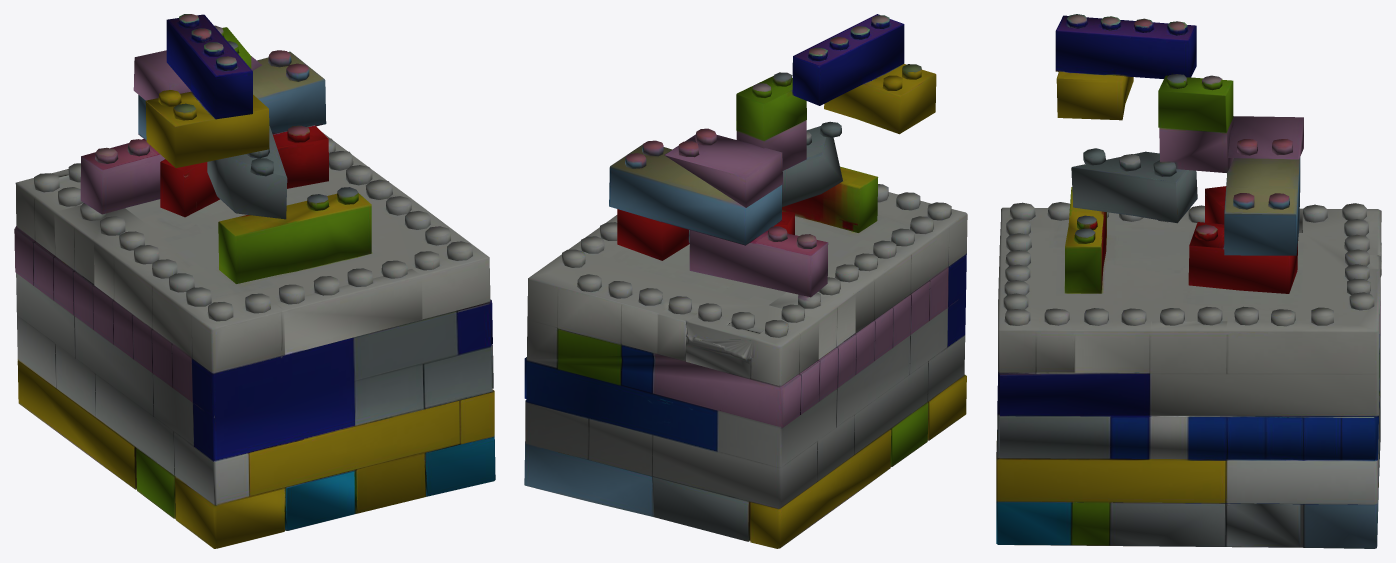
Rendered from object_40_asset_2bb3c13c.glb.
The picture shows the model from 3 angles, left to right: view 1: azimuth 30°, elevation 25°; view 2: azimuth 150°, elevation 25°; view 3: azimuth 270°, elevation 25°; orthographic projection. The views are drawn at different scales.
Parts seen in each view (by area): view 1: tripo_node_f3fd4cdd-843f-4fcf-b424-6a630ef29409; view 2: tripo_node_f3fd4cdd-843f-4fcf-b424-6a630ef29409; view 3: tripo_node_f3fd4cdd-843f-4fcf-b424-6a630ef29409.
Part boxes in pixels (x1,y1,x2,y2): tripo_node_f3fd4cdd-843f-4fcf-b424-6a630ef29409: (14,14,495,548); tripo_node_f3fd4cdd-843f-4fcf-b424-6a630ef29409: (524,14,967,548); tripo_node_f3fd4cdd-843f-4fcf-b424-6a630ef29409: (996,14,1381,548).
Size of the model in its own units: 0.6699 by 0.998 by 0.8223.
Materials: 1 (1 with a texture image).
